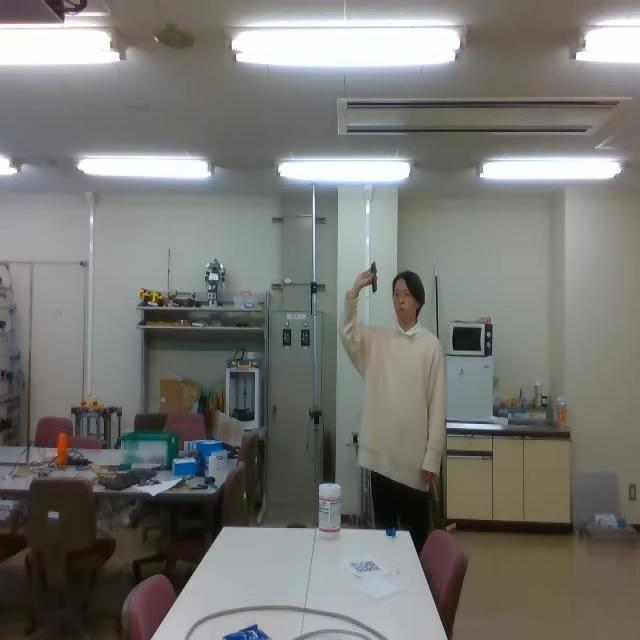Phone: (369, 260, 380, 296)
